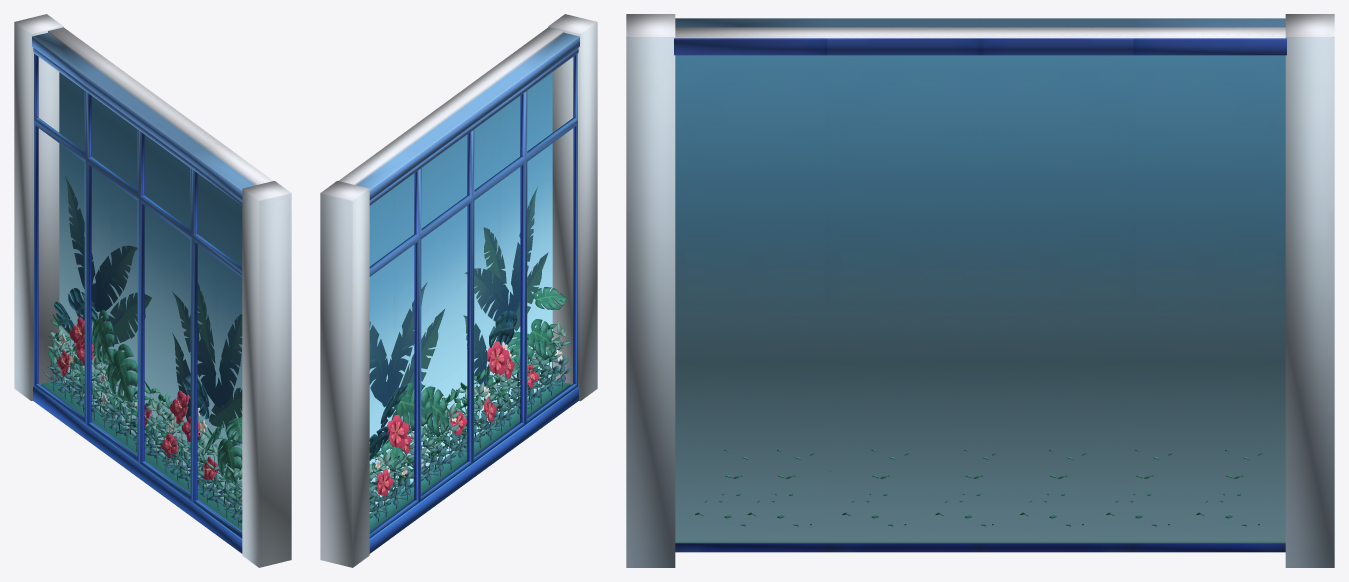
The model's file is my_poolparty_01_b_window_02.glb.
The picture shows the model from 3 angles, left to right: view 1: azimuth 30°, elevation 25°; view 2: azimuth 150°, elevation 25°; view 3: azimuth 270°, elevation 25°; orthographic projection. The views are drawn at different scales.
Visible parts, largest first — view 1: my_poolparty_01_b_window_02; view 2: my_poolparty_01_b_window_02; view 3: my_poolparty_01_b_window_02.
Part boxes in pixels (x1,y1,x2,y2): my_poolparty_01_b_window_02: [14, 14, 291, 567]; my_poolparty_01_b_window_02: [320, 14, 597, 567]; my_poolparty_01_b_window_02: [626, 14, 1334, 567].
Size of the model in its own units: 0.00417 by 0.0452 by 0.0546.
Materials: 1 (1 with a texture image).
